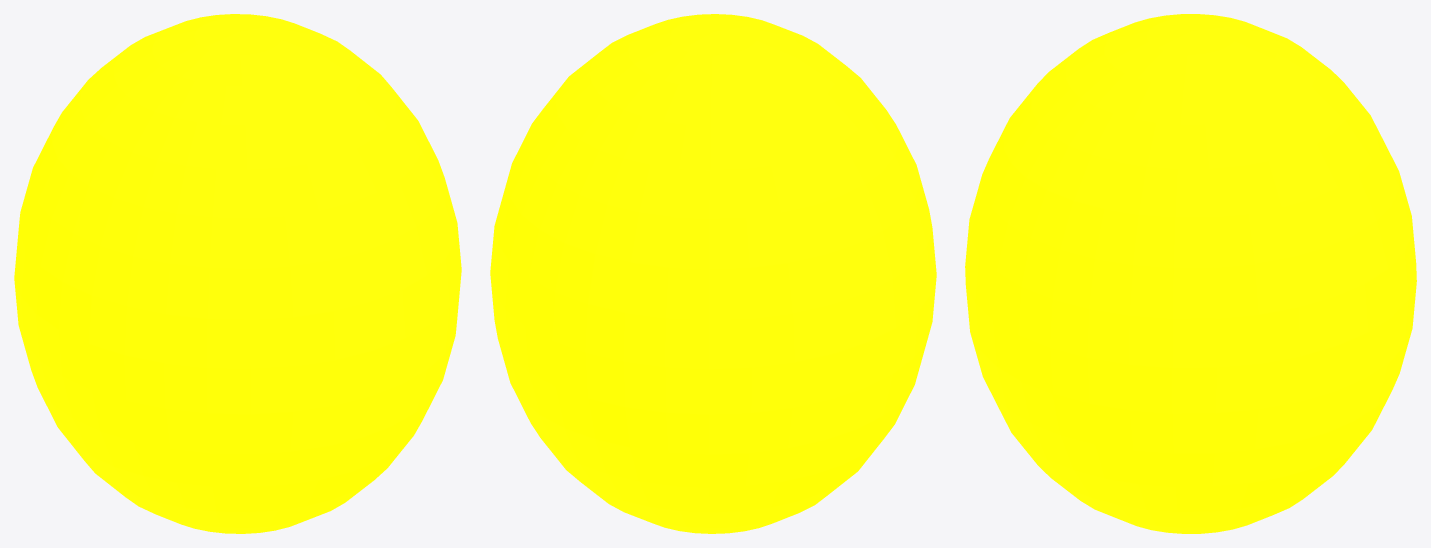
File: Forest light.fbx
The picture shows the model from 3 angles, left to right: view 1: azimuth 30°, elevation 25°; view 2: azimuth 150°, elevation 25°; view 3: azimuth 270°, elevation 25°; orthographic projection.
Parts seen in each view (by area): view 1: Sphere.004; view 2: Sphere.004; view 3: Sphere.004.
Part boxes in pixels (bbox=[...]): Sphere.004: bbox=[14, 14, 461, 533]; Sphere.004: bbox=[490, 14, 936, 533]; Sphere.004: bbox=[965, 14, 1416, 533].
Bounding box in the file's own units: 36.73 × 44.14 × 37.27.
